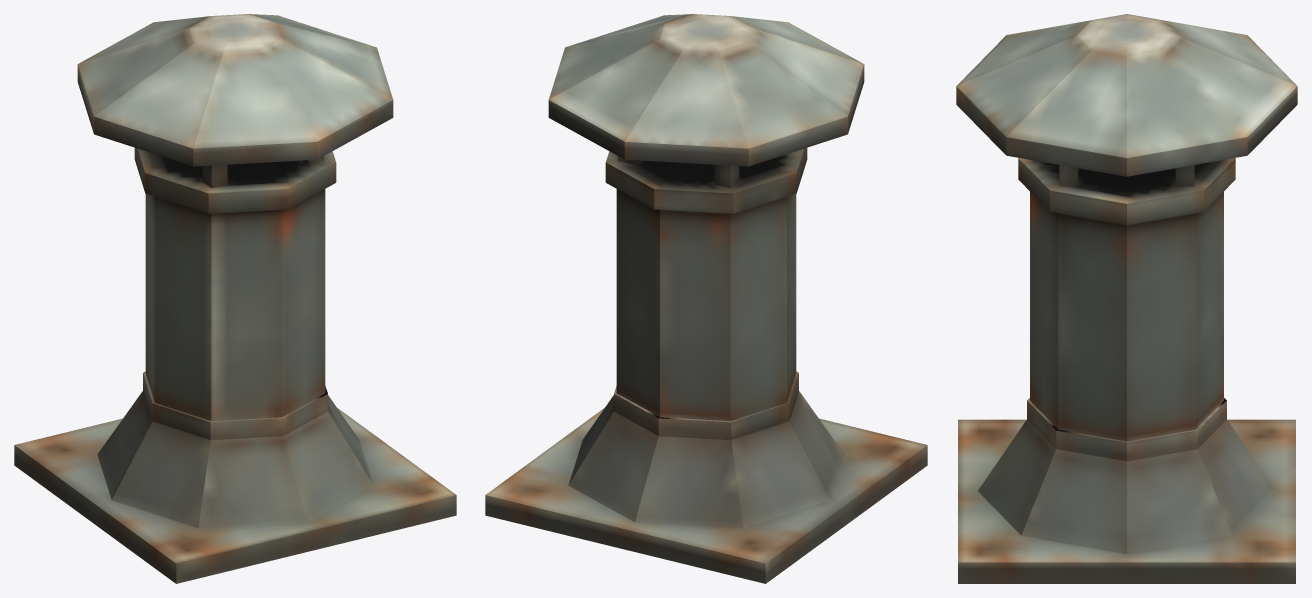
File: RF_VentMetal.fbx
3 views of the same model, side by side, from view 1: azimuth 30°, elevation 25°; view 2: azimuth 150°, elevation 25°; view 3: azimuth 270°, elevation 25° (orthographic). The views are drawn at different scales.
Parts seen in each view (by area): view 1: RF_VentMetal; view 2: RF_VentMetal; view 3: RF_VentMetal.
Part boxes in pixels (<box>): RF_VentMetal: <box>14,14,456,583</box>; RF_VentMetal: <box>485,14,927,583</box>; RF_VentMetal: <box>956,14,1297,583</box>.
Size of the model in its own units: 1.16 by 1.16 by 1.8.
1 material, 1 textured.
